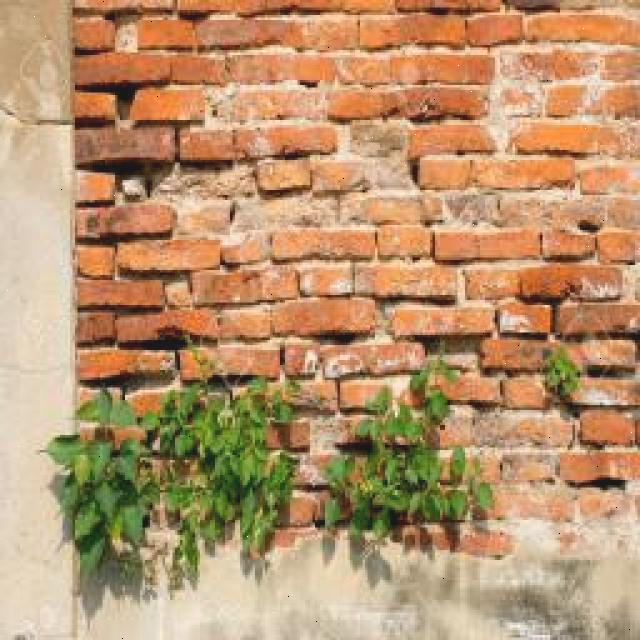crack: (72, 0, 639, 561), (236, 117, 424, 225), (63, 24, 89, 630), (345, 122, 426, 169), (193, 269, 292, 306), (231, 198, 320, 235), (549, 198, 637, 233), (434, 190, 514, 225), (256, 158, 318, 192), (29, 117, 70, 128)
dampness: (73, 7, 217, 380), (78, 4, 637, 64)
vegetation: (39, 332, 306, 598), (322, 353, 496, 545), (56, 438, 151, 582), (100, 75, 181, 199), (483, 57, 541, 149), (163, 165, 261, 203), (73, 387, 140, 430), (566, 65, 610, 118), (285, 377, 343, 410), (47, 434, 92, 470), (267, 380, 303, 423), (205, 86, 243, 124), (413, 95, 442, 120)
